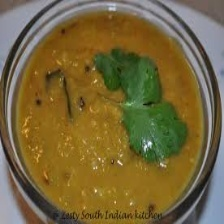dal: (1, 1, 224, 224)
